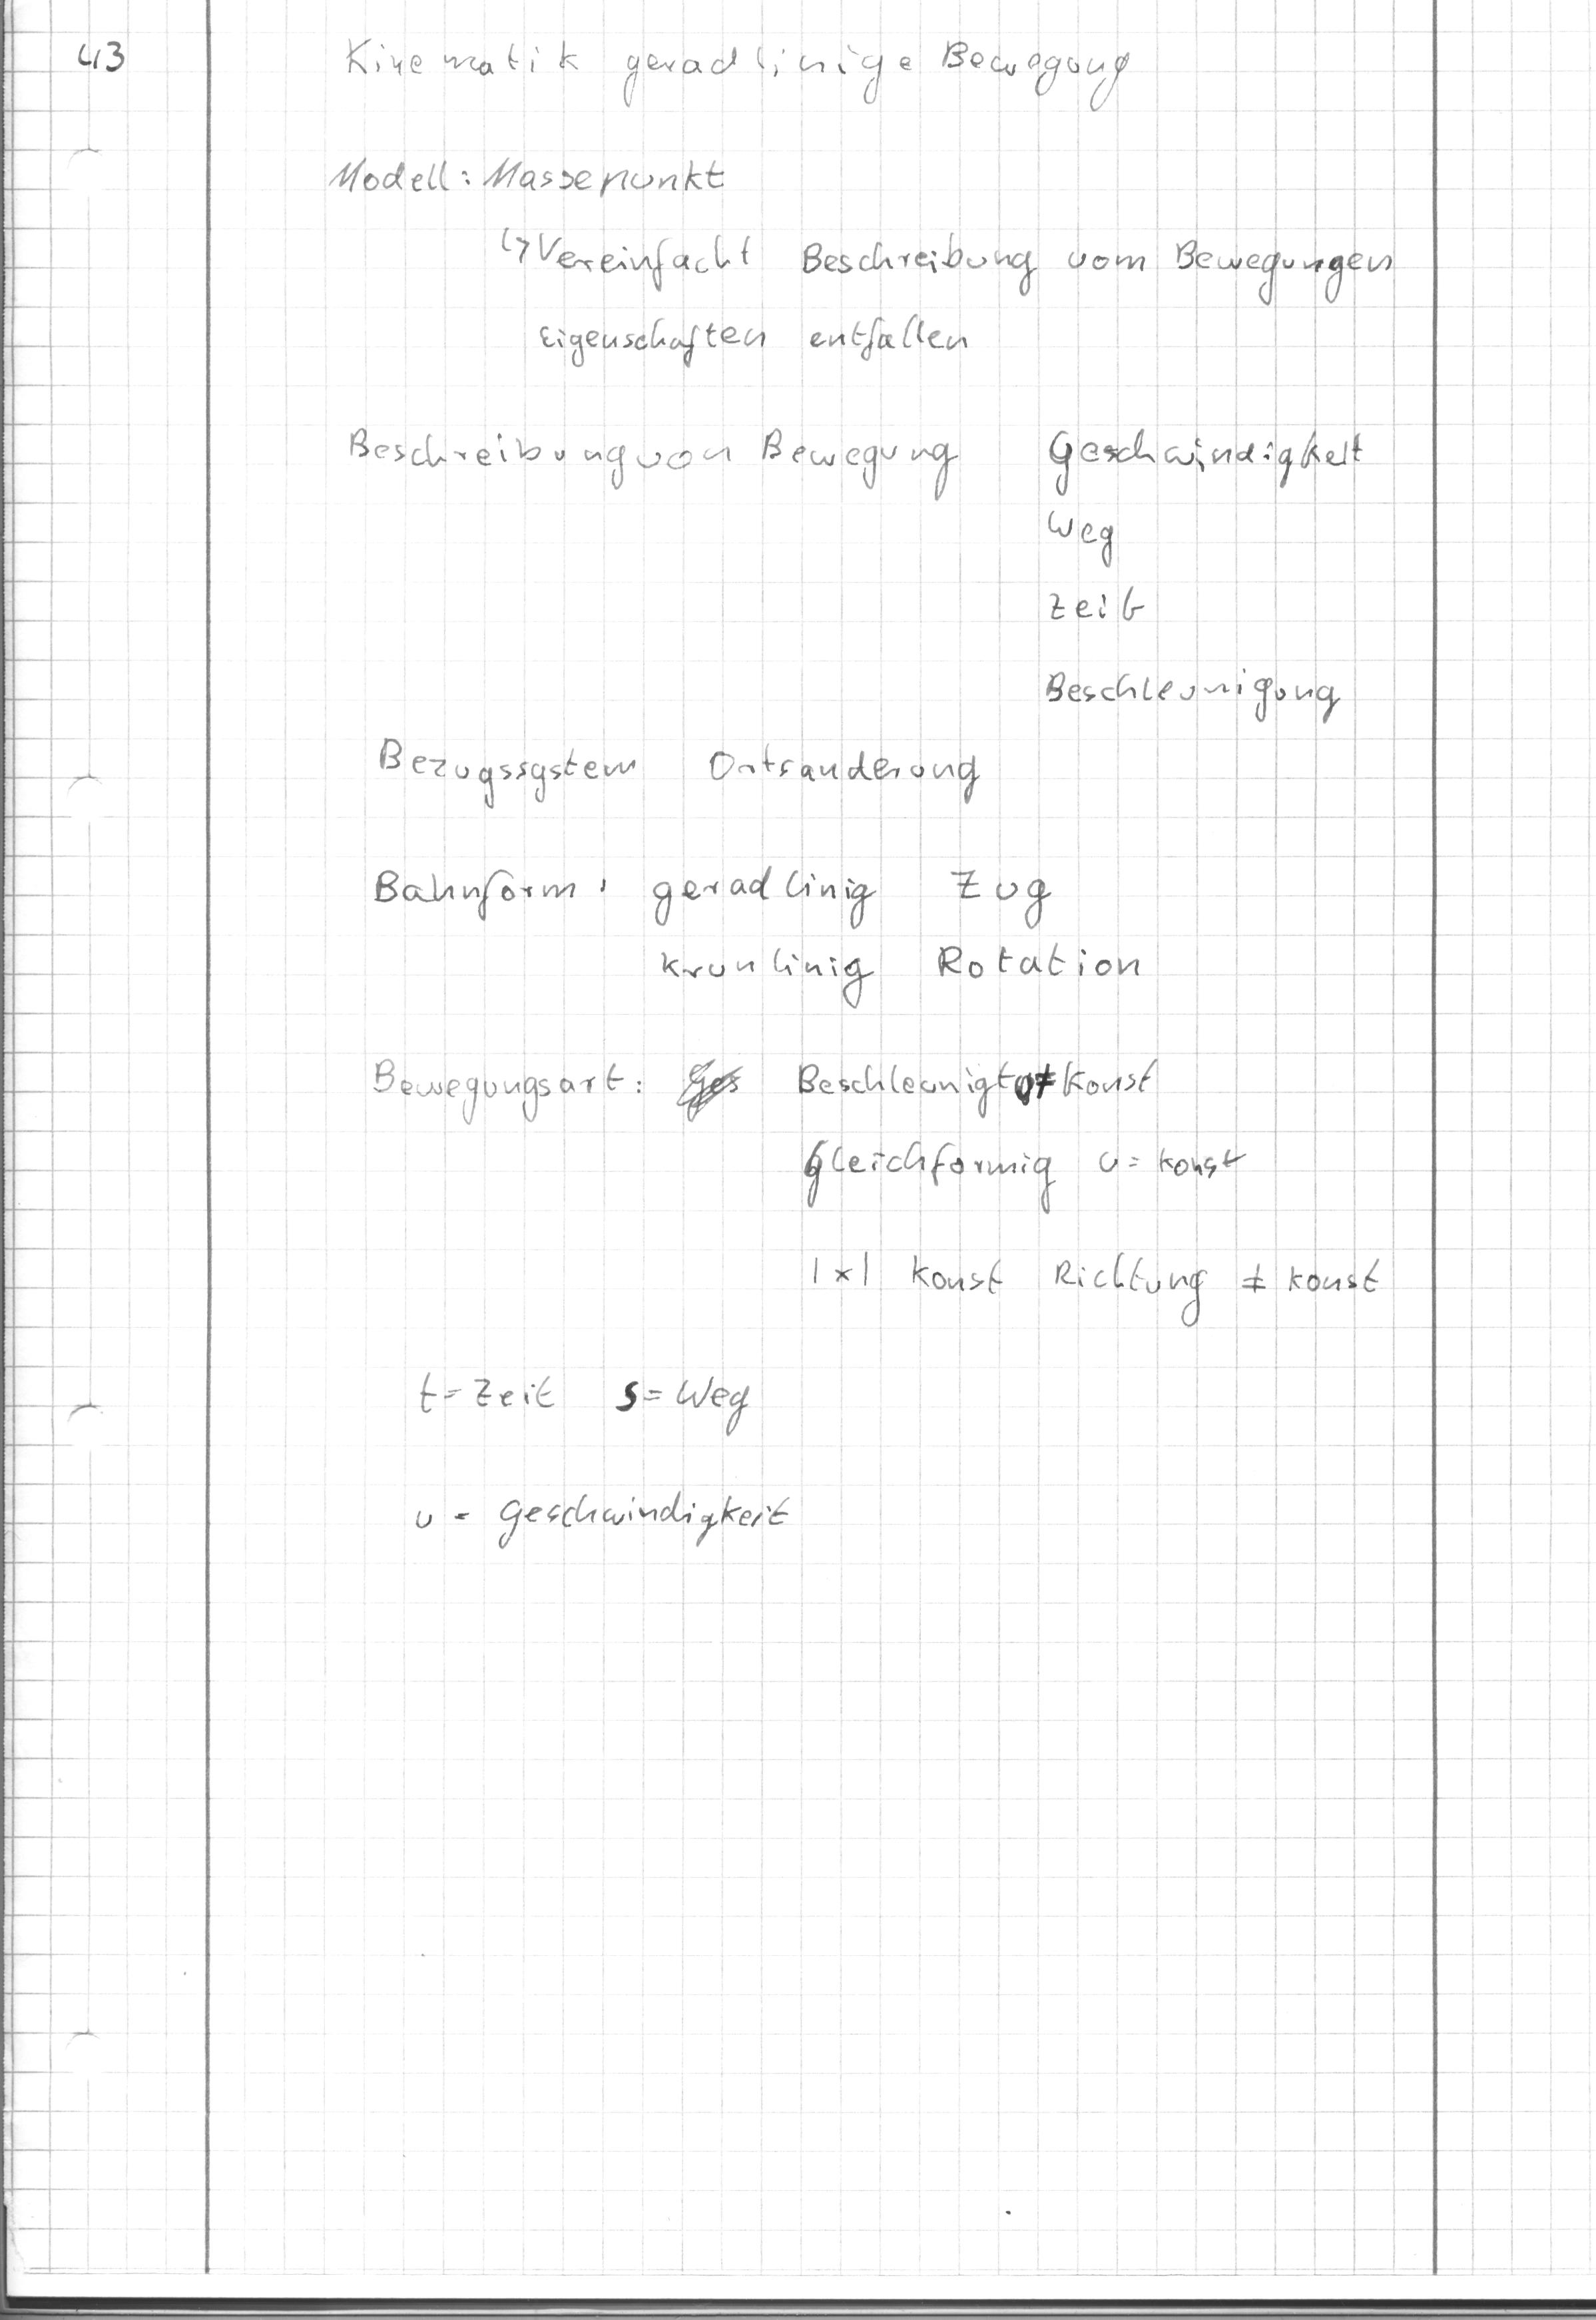word: (791, 1050, 1391, 1335), (492, 216, 1405, 370), (1029, 410, 1386, 735), (331, 15, 1143, 128), (643, 848, 1160, 1018), (407, 1356, 801, 1573), (336, 406, 978, 527), (364, 718, 1005, 833), (320, 141, 744, 210), (364, 1043, 653, 1135), (366, 853, 623, 934)
